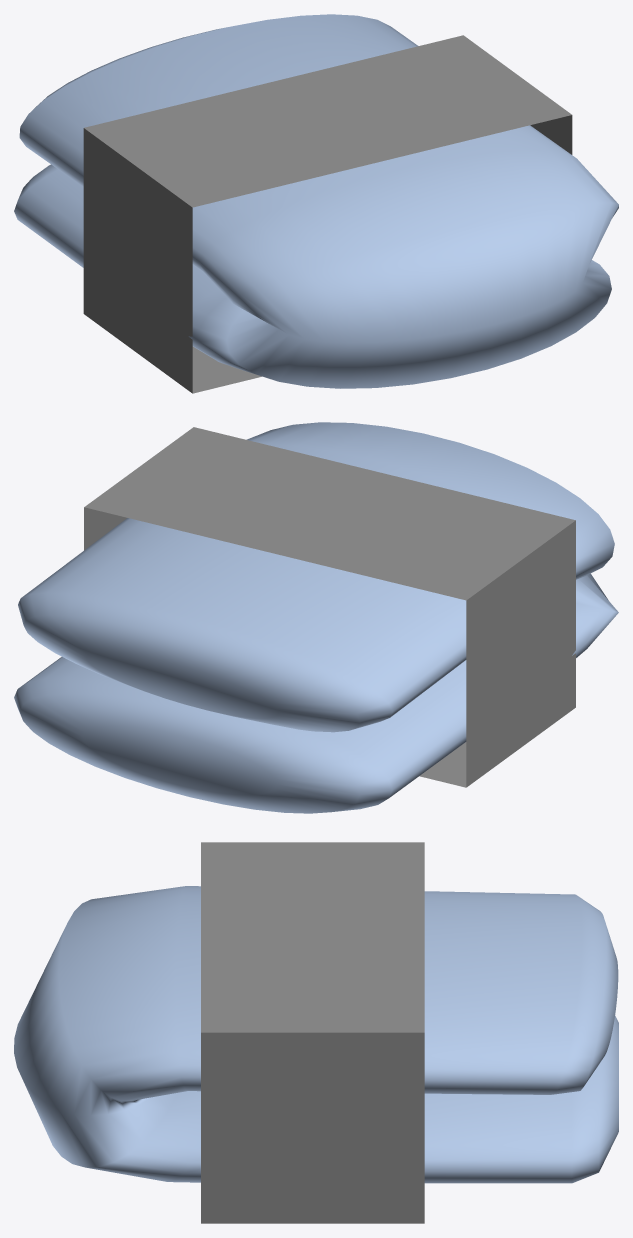
Rendered from blanketCubeMod1.fbx.
3 renders of one model, top to bottom at view 1: azimuth 30°, elevation 25°; view 2: azimuth 150°, elevation 25°; view 3: azimuth 270°, elevation 25°, orthographic. The views are drawn at different scales.
Parts seen in each view (by area): view 1: Cylinder, Cube; view 2: Cylinder, Cube; view 3: Cylinder, Cube.
Boxes of the visible parts, box(x1,y1,x2,y2) form: Cylinder: box(14, 14, 618, 388); Cube: box(83, 35, 572, 393); Cylinder: box(14, 422, 618, 813); Cube: box(84, 427, 575, 787); Cylinder: box(14, 886, 618, 1183); Cube: box(201, 842, 424, 1223).
Size of the model in its own units: 404 by 189 by 541.
